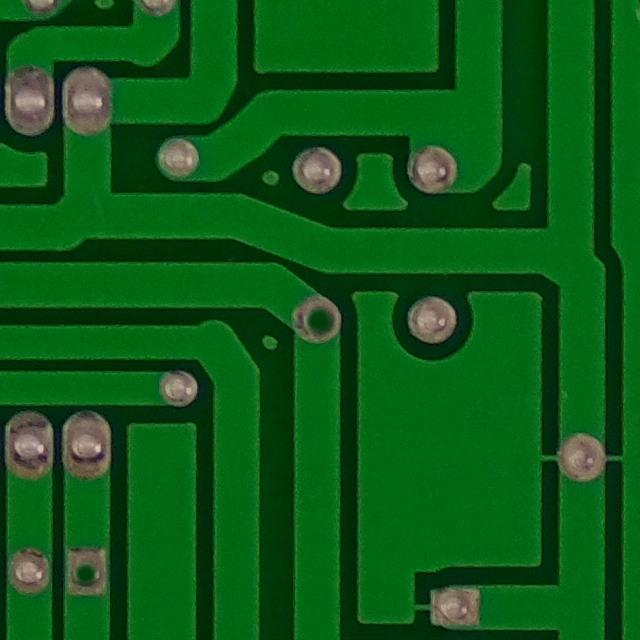missing_hole: (287, 286, 348, 351), (60, 541, 114, 604)
